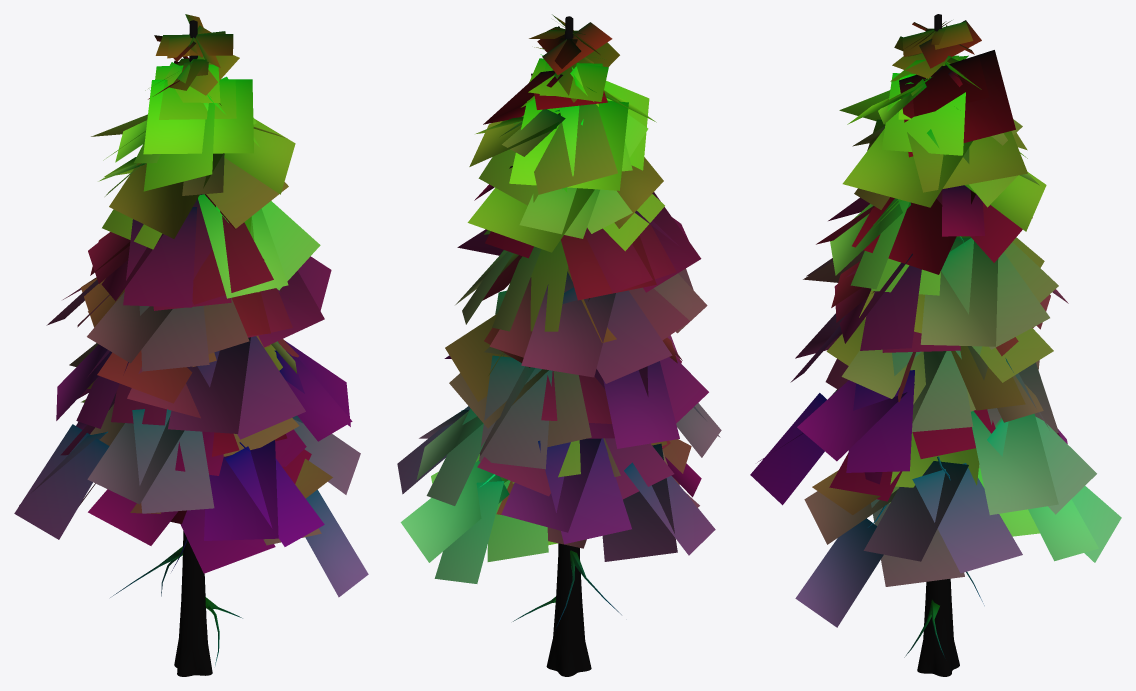
File: M_Pine_4_4.fbx
3 renders of one model, left to right at view 1: azimuth 30°, elevation 25°; view 2: azimuth 150°, elevation 25°; view 3: azimuth 270°, elevation 25°, orthographic.
Visible parts, largest first — view 1: Tree_4; view 2: Tree_4; view 3: Tree_4.
Part boxes in pixels (x1,y1,x2,y2): Tree_4: (14, 14, 368, 676); Tree_4: (397, 14, 721, 676); Tree_4: (750, 14, 1121, 676).
Size of the model in its own units: 1142 by 2287 by 1178.
